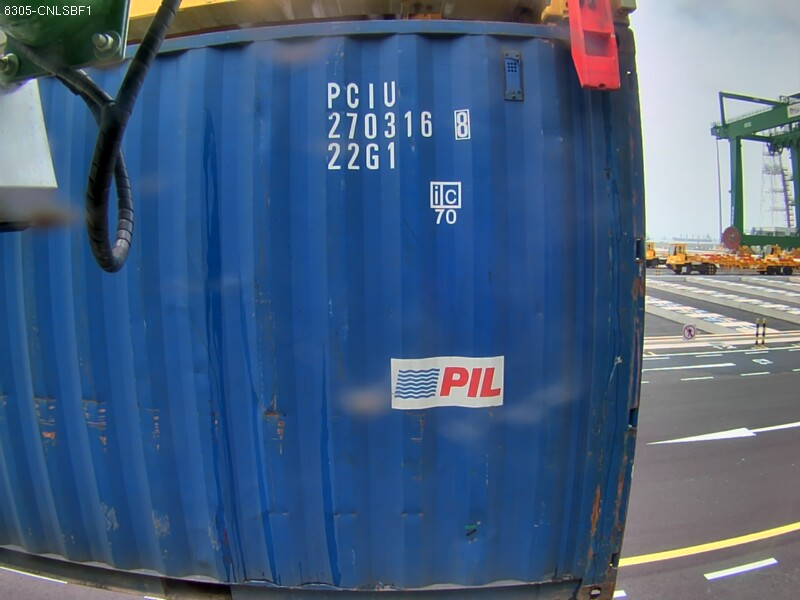container_no_door: (193, 11, 560, 600)
